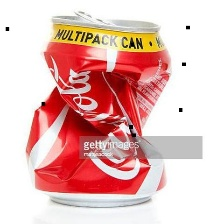can: (19, 7, 174, 211)
